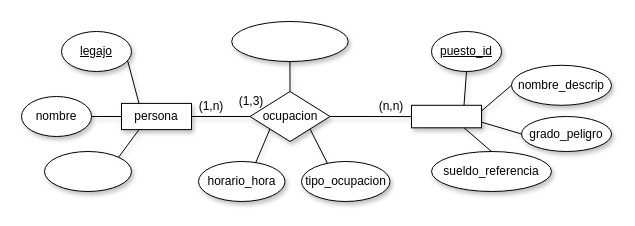
The diagram is 635 pixels wide and 226 high, and some of its shapes have lost their labels. The shapes that lost their labels are listed below. From the top down, each one's centre as x and y in pixels, then its label:
At pixel 290 42: "horario_semana".
At pixel 447 117: "puesto".
At pixel 89 172: "fecha_ingreso".
